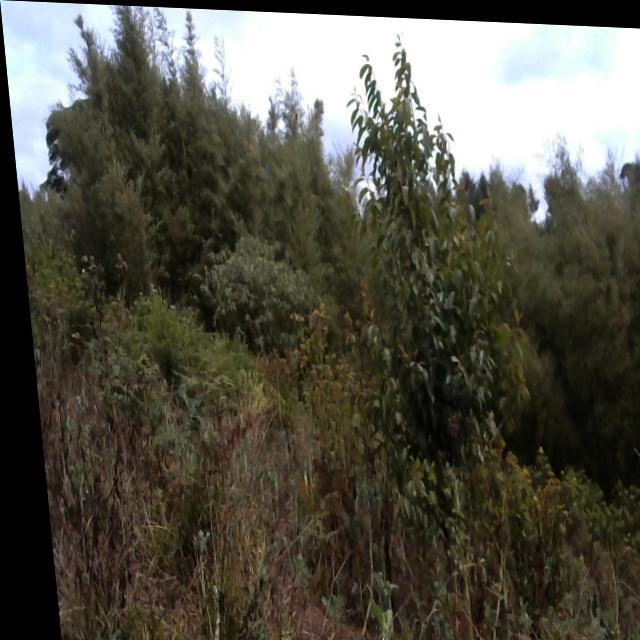Syzygium gineense: (332, 38, 542, 594)
other: (194, 225, 323, 354)
